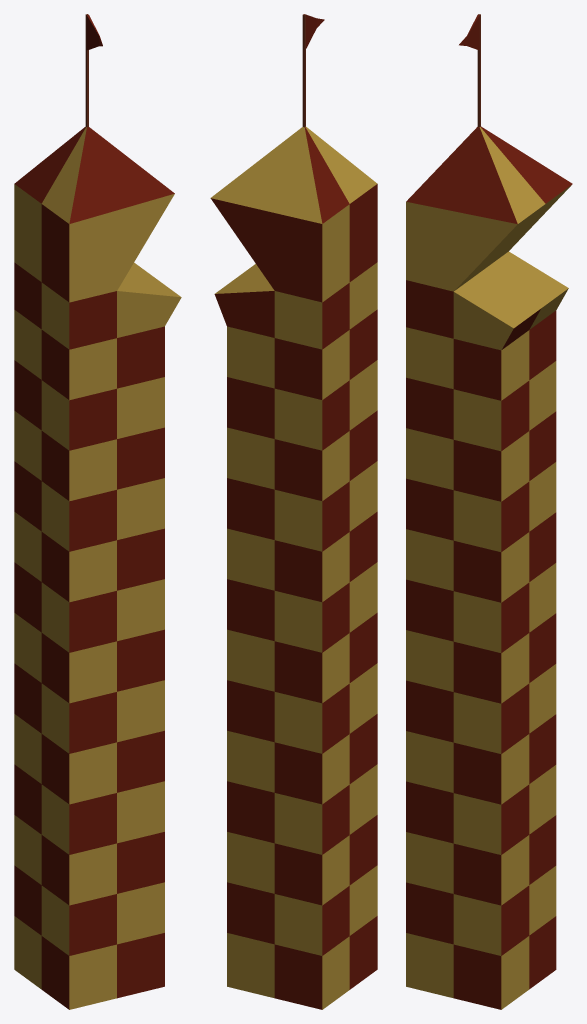
File: stadiumtower1.fbx
The picture shows the model from 3 angles, left to right: view 1: azimuth 30°, elevation 25°; view 2: azimuth 150°, elevation 25°; view 3: azimuth 330°, elevation 25°; orthographic projection.
Parts seen in each view (by area): view 1: Cube.001; view 2: Cube.001; view 3: Cube.001.
Part boxes in pixels (bbox=[...]): Cube.001: bbox=[14, 14, 181, 1009]; Cube.001: bbox=[210, 14, 377, 1009]; Cube.001: bbox=[406, 14, 572, 1009].
Size of the model in its own units: 275 by 2298 by 261.
